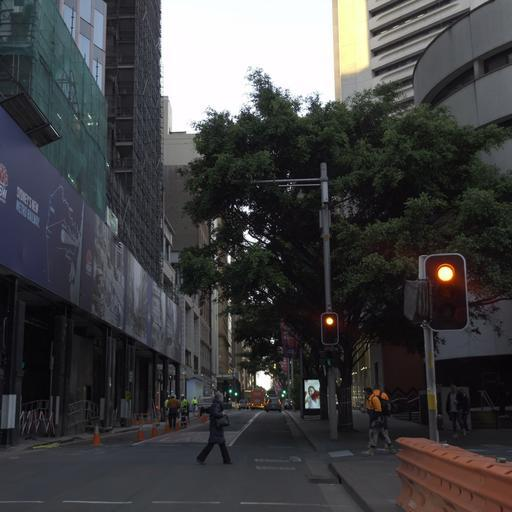Street light: (234, 161, 341, 440), (402, 251, 469, 443), (419, 251, 469, 331), (319, 311, 339, 345)
